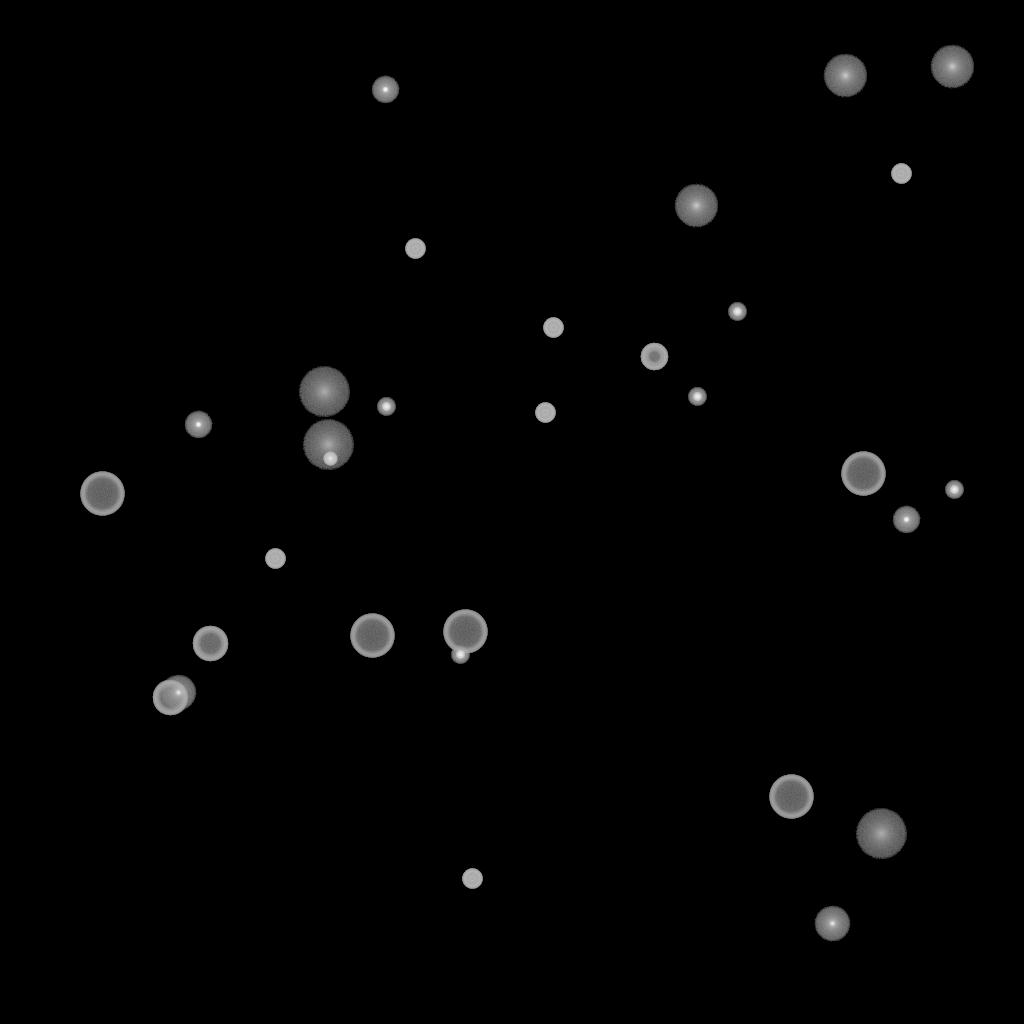depth:-10: (184, 411, 212, 439), (892, 506, 920, 534), (371, 76, 399, 104)
depth:-20: (728, 303, 746, 321), (377, 398, 395, 416), (451, 646, 469, 664), (945, 481, 963, 499), (688, 388, 706, 406)
depth:-30: (323, 452, 337, 466)
depth:-40: (543, 318, 563, 338), (405, 239, 425, 259), (535, 403, 555, 423), (462, 869, 482, 889), (891, 164, 911, 184), (265, 549, 285, 569)
depth:-50: (640, 343, 668, 371)
depth:-60: (152, 680, 188, 716), (192, 626, 228, 662)
depth:-70: (80, 472, 124, 516), (443, 610, 487, 654), (769, 775, 813, 819), (350, 614, 394, 658), (841, 452, 885, 496)
depth:0: (814, 906, 850, 942), (160, 675, 196, 711)
depth:10: (823, 54, 867, 98), (930, 45, 974, 89), (674, 184, 718, 228)
depth:20: (855, 809, 907, 859), (298, 367, 350, 417), (302, 420, 354, 470)
